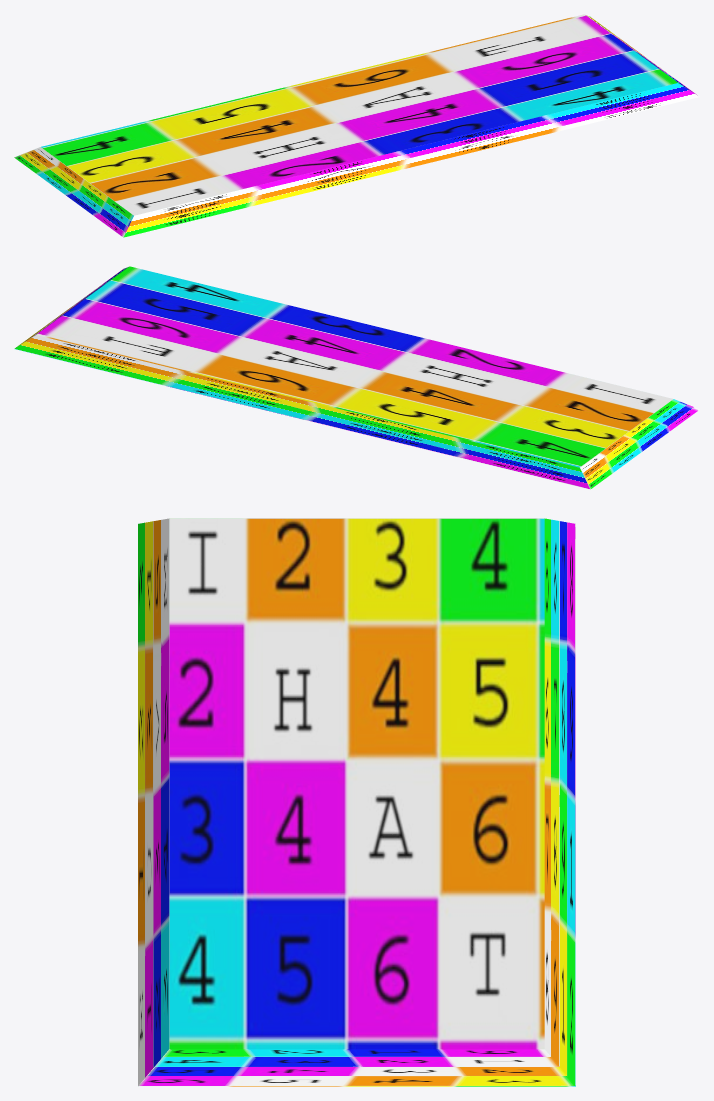
The model's file is Ground2.fbx.
3 renders of one model, top to bottom at view 1: azimuth 30°, elevation 25°; view 2: azimuth 150°, elevation 25°; view 3: azimuth 270°, elevation 25°, orthographic. The views are drawn at different scales.
Parts seen in each view (by area): view 1: Cube; view 2: Cube; view 3: Cube.
Part boxes in pixels (<box>): Cube: <box>14,14,699,237</box>; Cube: <box>14,266,699,489</box>; Cube: <box>138,518,575,1086</box>.
Size of the model in its own units: 15500 by 300 by 5100.
1 material, 1 textured.
